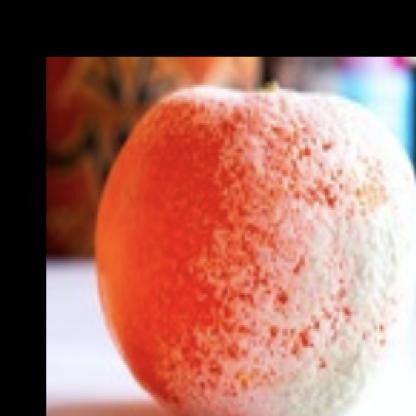rotten: (93, 86, 416, 415)
